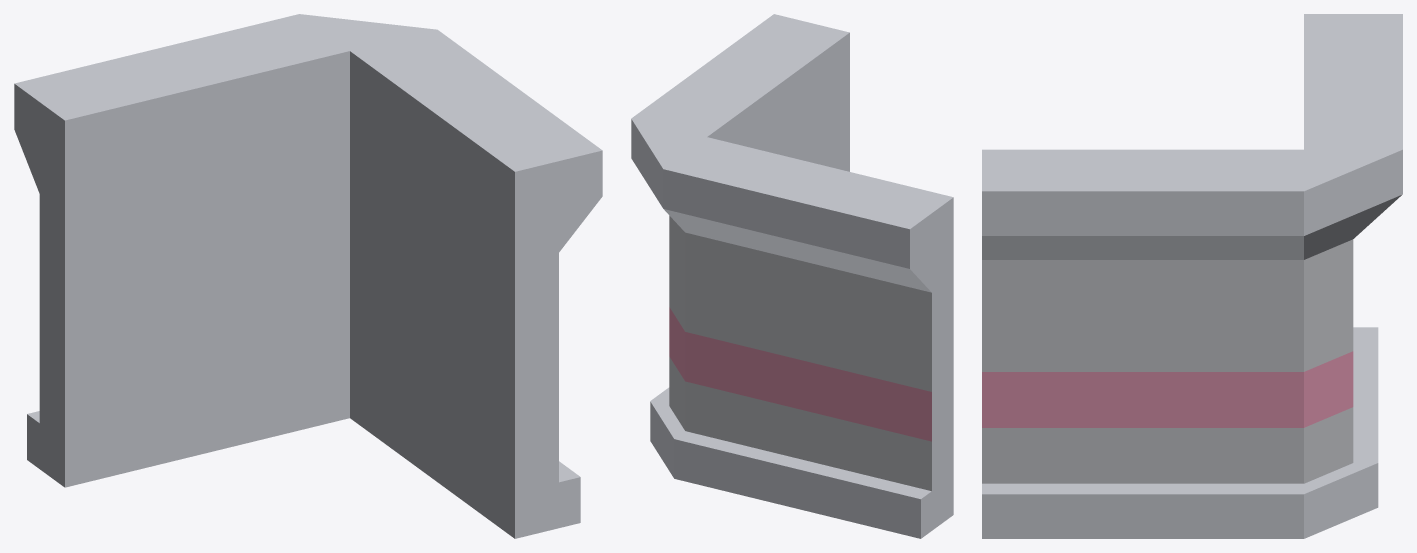
The model's file is KSI_wall_corner_outer_painted.glb.
3 views of the same model, side by side, from view 1: azimuth 30°, elevation 25°; view 2: azimuth 150°, elevation 25°; view 3: azimuth 270°, elevation 25° (orthographic). The views are drawn at different scales.
Visible parts, largest first — view 1: tmpParent; view 2: tmpParent; view 3: tmpParent.
Part boxes in pixels (x1,y1,x2,y2): tmpParent: (14, 14, 602, 538); tmpParent: (631, 14, 953, 538); tmpParent: (982, 14, 1402, 538).
Size of the model in its own units: 1.06 by 1 by 1.07.
